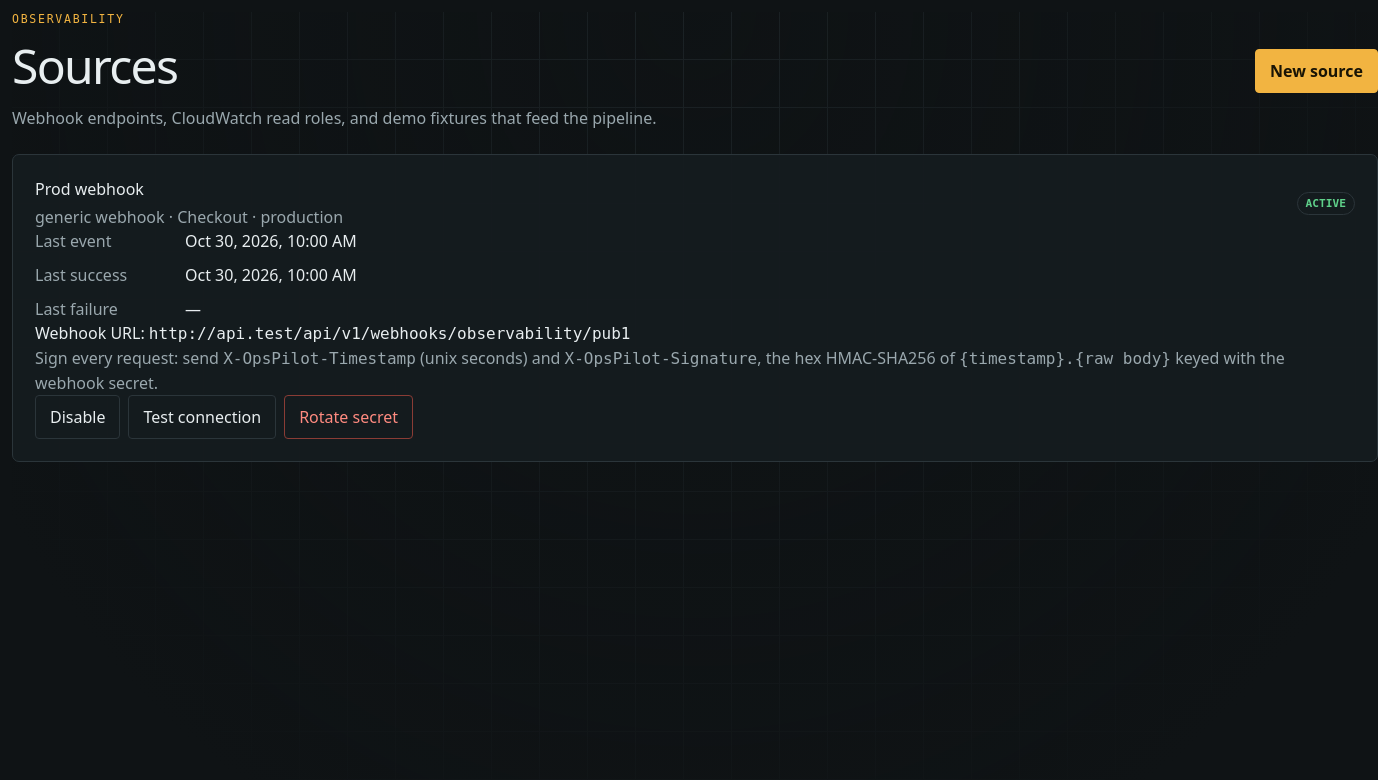
Test: source management › rotates a secret after confirmation and shows it once
Click the button "Rotate secret" at (349, 417), box [284,395,413,439]
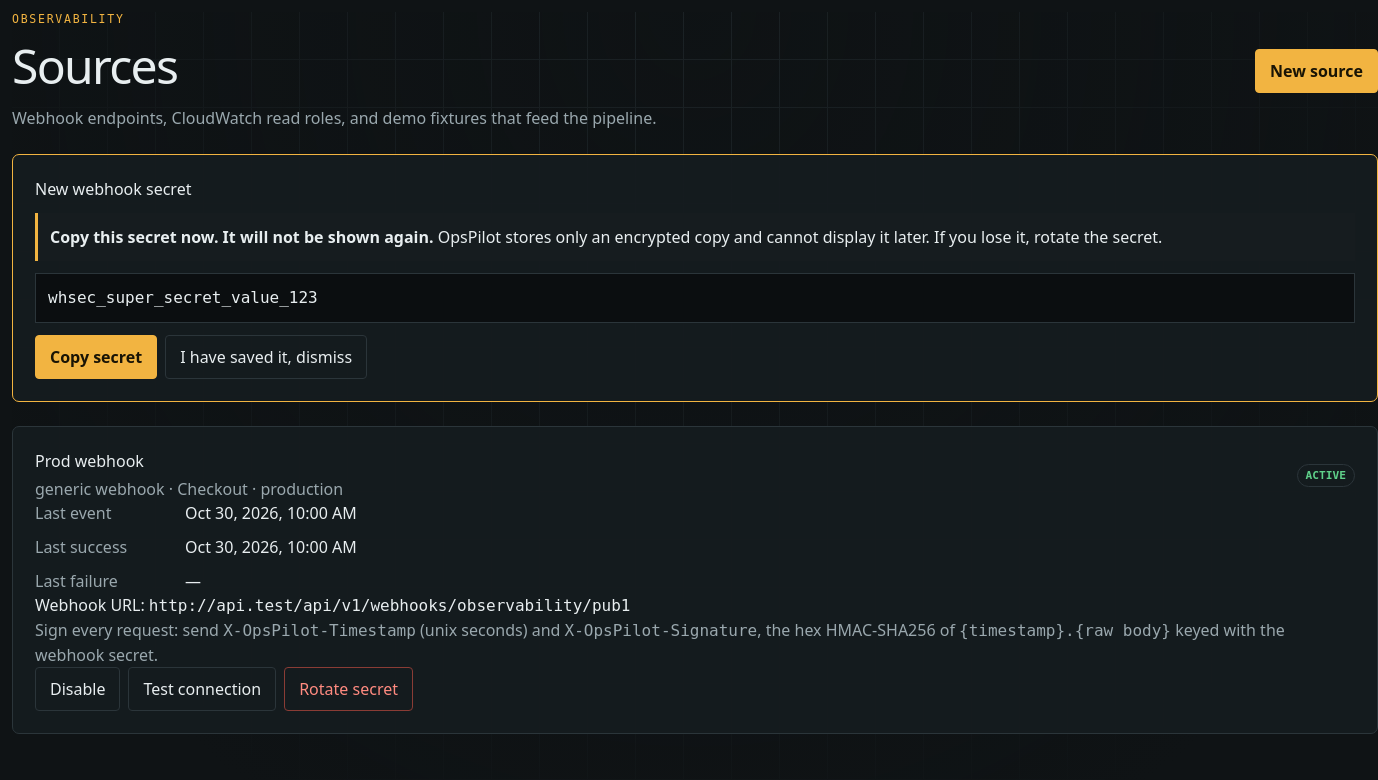
Check: the text with test id "webhook-secret" reads "whsec_super_secret_value_123", box [48,288,318,307]
Click the button "I have saved it, dismiss" at (266, 357), box [165,335,367,379]
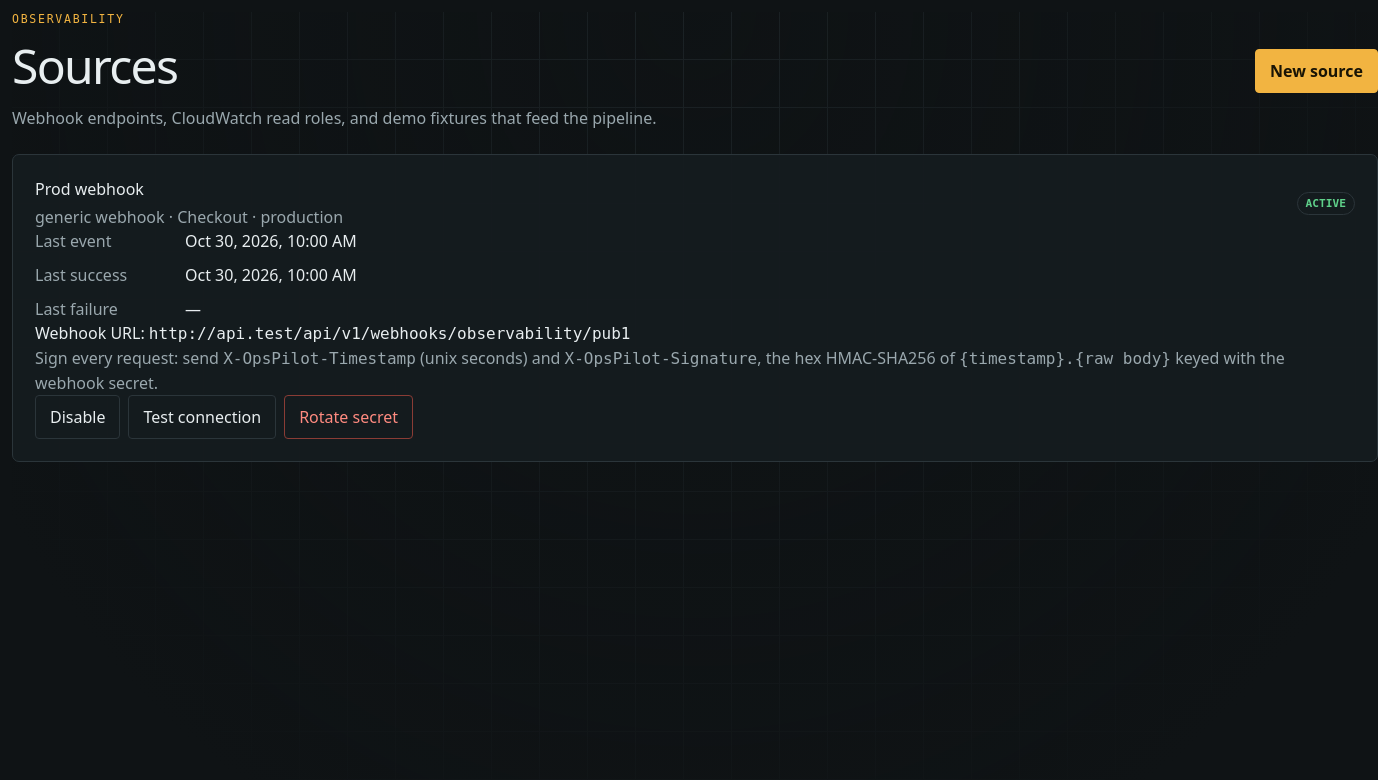
Check: the text "whsec_super_secret_value_123" is gone
